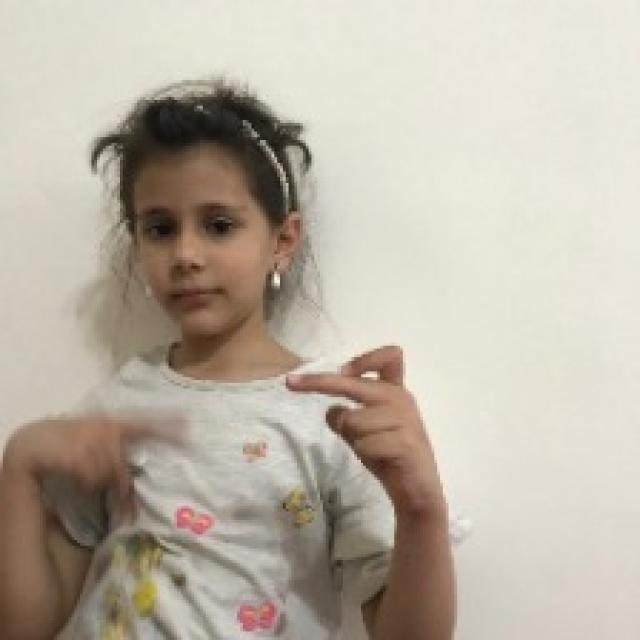sunday: (284, 336, 437, 492)
